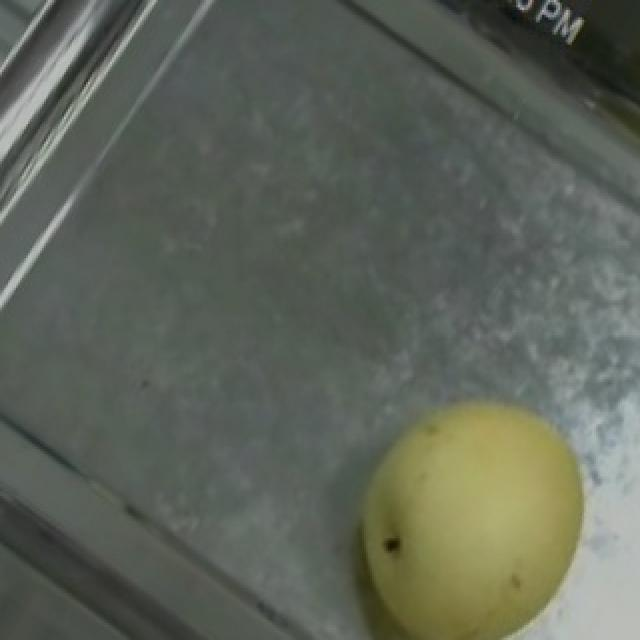Fruit: (310, 362, 616, 640)
